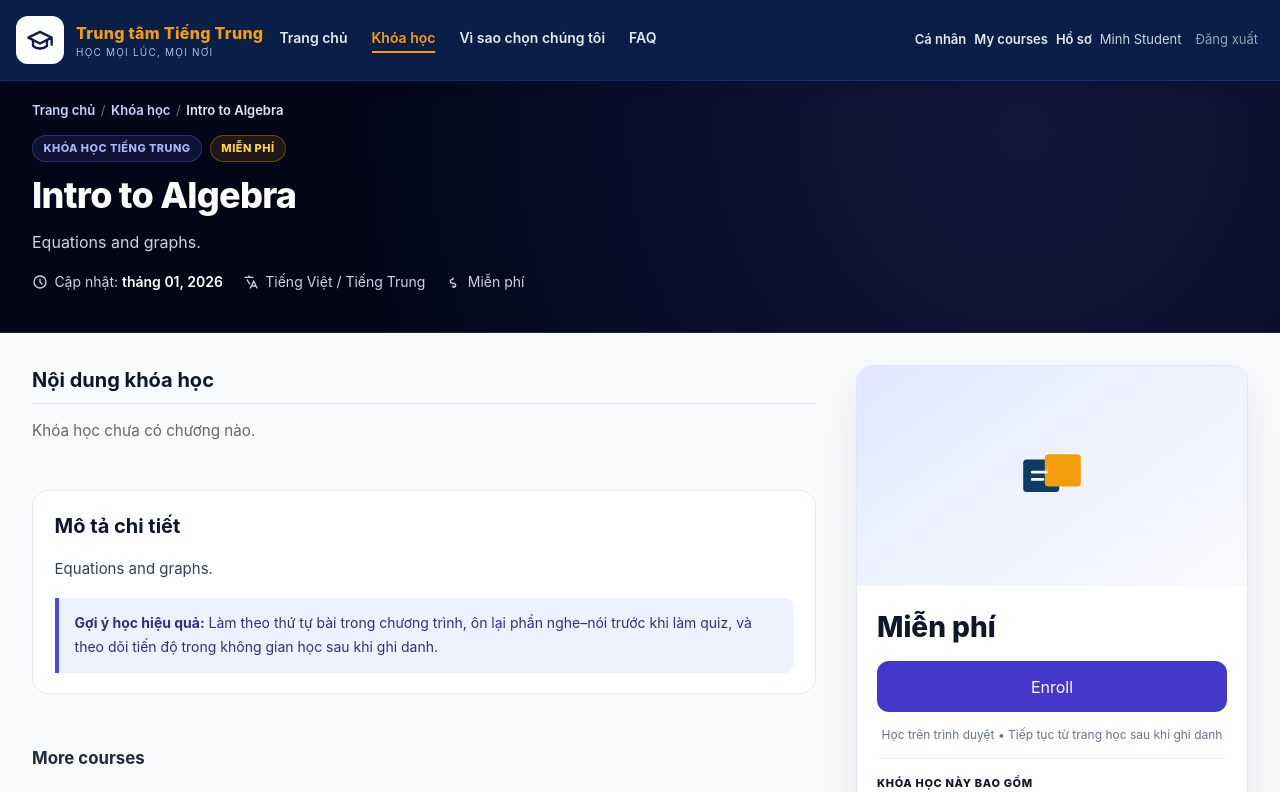
it: course enrollment on the detail page › reconciles a duplicate enrollment from the current user list
The image size is (1280, 792).
Click the button "Enroll": (1052, 687) [877,661,1227,712]
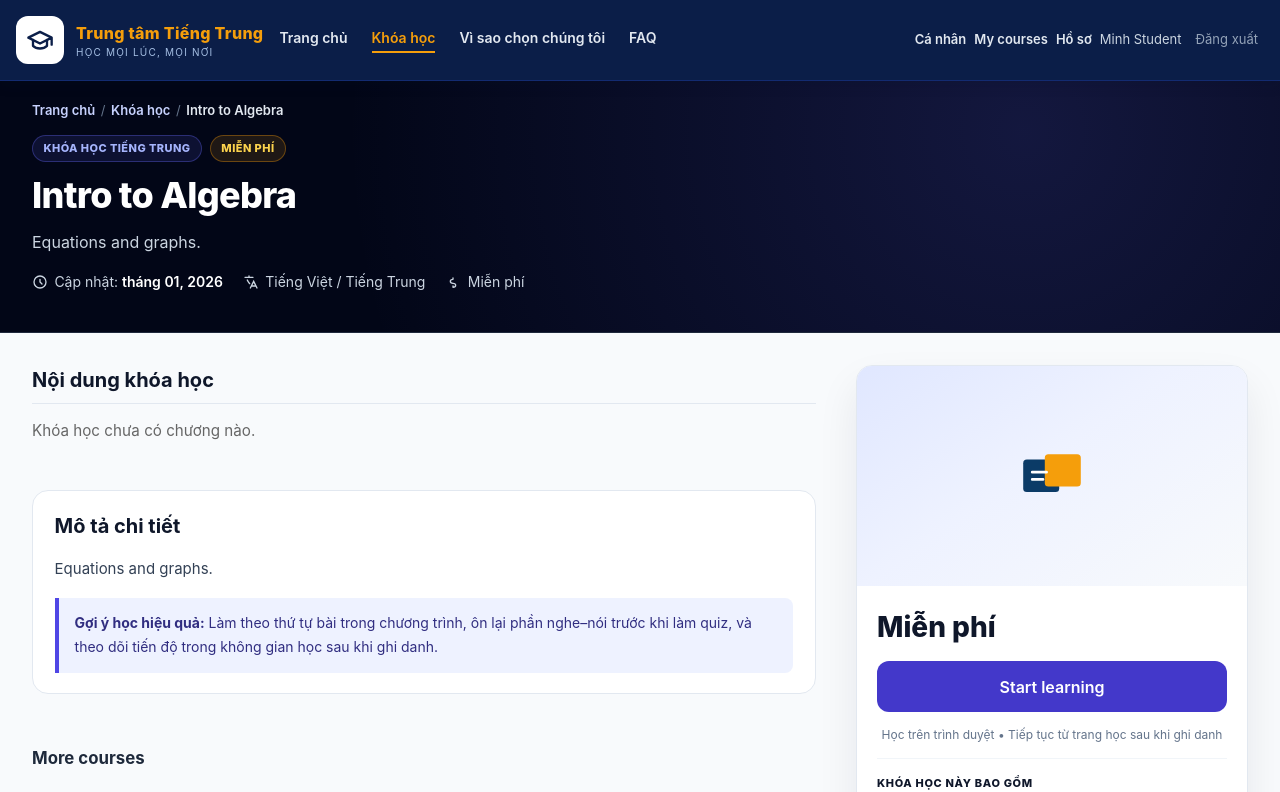
Now the link "Start learning" is shown, box [877,661,1227,712]
